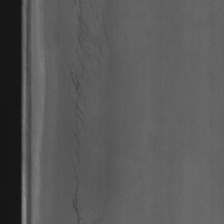water_spot: (63, 17, 99, 220)
